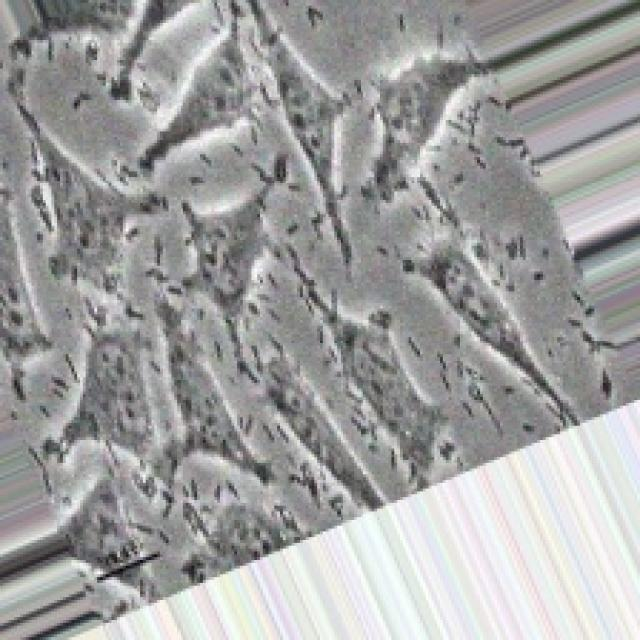Rod_bacteria: (0, 0, 620, 623)
